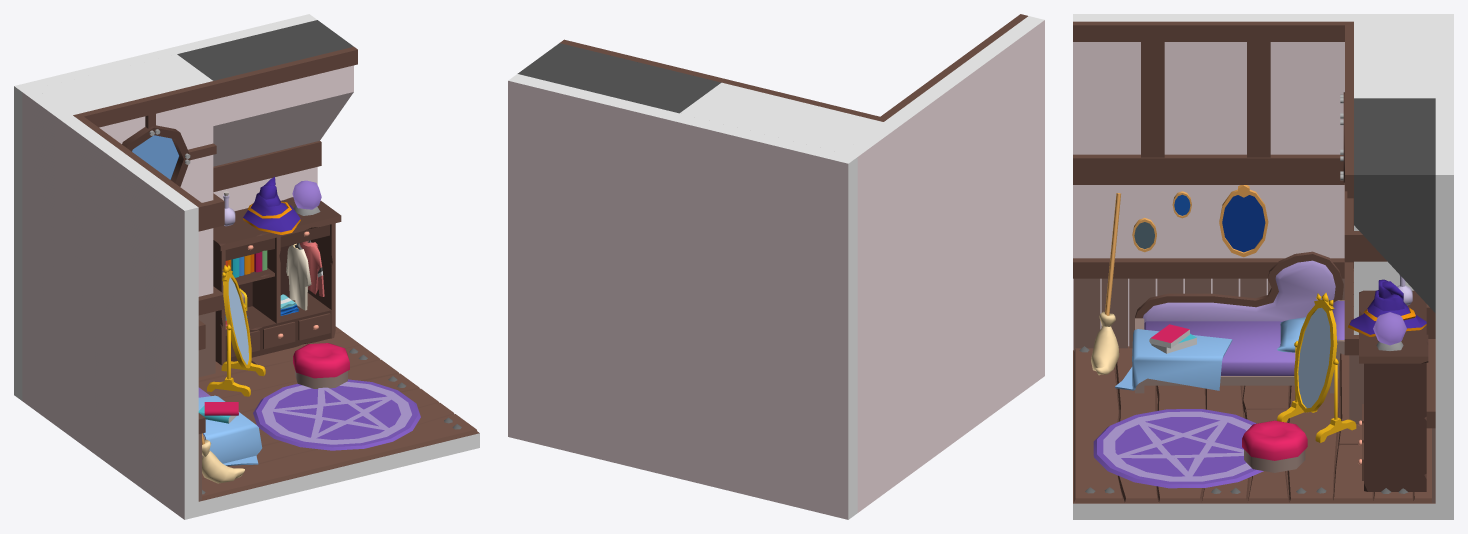
File: profile.glb
3 views of the same model, side by side, from view 1: azimuth 30°, elevation 25°; view 2: azimuth 150°, elevation 25°; view 3: azimuth 270°, elevation 25° (orthographic). The views are drawn at different scales.
Parts seen in each view (by area): view 1: wall_034.048, stone_item_062.001, closet_011.001, floor_024.002, wall_034.050, carpet_004.001, wall_034.049, wall_195.033, wall_199.014, wall_195.027, mirror_001.001, bed_005.001 (+9 smaller); view 2: wall_034.049, wall_034.048, wall_034.050, stone_item_062.001, wall_195.033, wall_195.032; view 3: wall_034.048, floor_024.002, bed_005.001, stone_item_062.001, closet_011.001, carpet_004.001, wall_034.049, wall_195.026, wall_034.050, wall_199.014, wall_195.032, mirror_001.001 (+22 smaller).
Part boxes in pixels (bbox=[...]): wall_034.048: bbox=[22, 88, 198, 519]; stone_item_062.001: bbox=[177, 20, 353, 166]; closet_011.001: bbox=[213, 197, 341, 365]; floor_024.002: bbox=[198, 326, 477, 500]; wall_034.050: bbox=[36, 54, 213, 296]; carpet_004.001: bbox=[253, 379, 420, 450]; wall_034.049: bbox=[14, 14, 317, 400]; wall_195.033: bbox=[80, 46, 357, 127]; wall_199.014: bbox=[198, 432, 479, 516]; wall_195.027: bbox=[213, 141, 321, 192]; mirror_001.001: bbox=[207, 264, 265, 396]; bed_005.001: bbox=[198, 387, 262, 465]; wall_034.049: bbox=[508, 74, 857, 519]; wall_034.048: bbox=[842, 16, 1044, 512]; wall_034.050: bbox=[680, 82, 883, 152]; stone_item_062.001: bbox=[517, 43, 720, 113]; wall_195.033: bbox=[560, 39, 879, 119]; wall_195.032: bbox=[876, 14, 1027, 121]; wall_034.048: bbox=[1073, 14, 1435, 350]; floor_024.002: bbox=[1074, 346, 1431, 502]; bed_005.001: bbox=[1115, 251, 1344, 393]; stone_item_062.001: bbox=[1354, 98, 1435, 312]; closet_011.001: bbox=[1358, 290, 1428, 491]; carpet_004.001: bbox=[1093, 409, 1263, 488]; wall_034.049: bbox=[1435, 14, 1453, 519]; wall_195.026: bbox=[1073, 154, 1344, 184]; wall_034.050: bbox=[1354, 21, 1435, 334]; wall_199.014: bbox=[1073, 350, 1435, 519]; wall_195.032: bbox=[1073, 21, 1353, 41]; mirror_001.001: bbox=[1277, 292, 1356, 442].
Size of the model in its own units: 4.2 by 4.2 by 4.2.
Materials: 4 (4 with a texture image).
